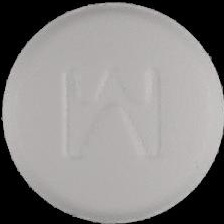10544-969: (0, 0, 224, 224)
